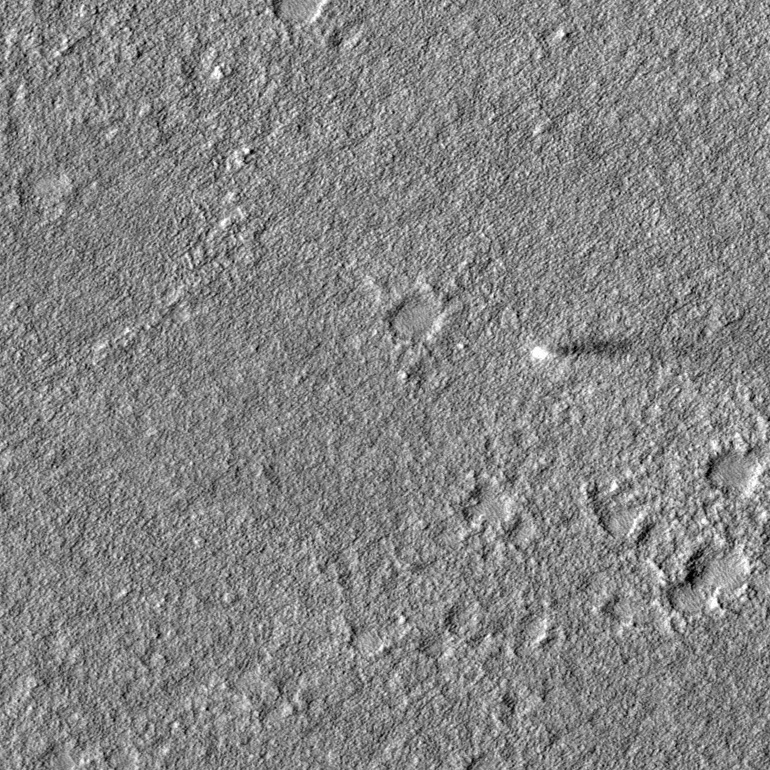dust_devil: (529, 336, 634, 362)
